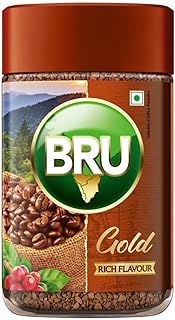Coffee: (2, 6, 171, 318)
